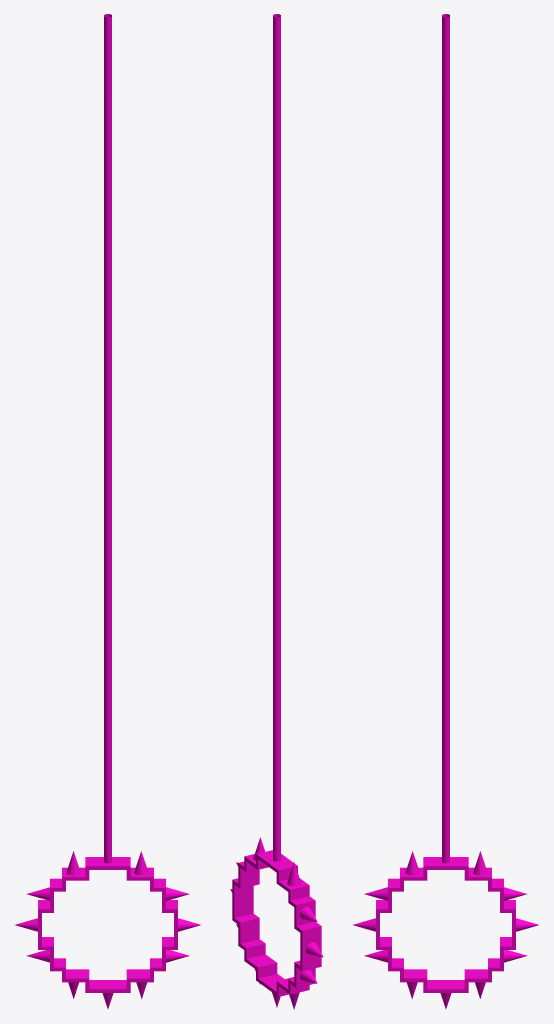
File: cutter5_pixel.fbx
3 renders of one model, left to right at view 1: azimuth 90°, elevation 25°; view 2: azimuth 210°, elevation 25°; view 3: azimuth 270°, elevation 25°, orthographic.
Visible parts, largest first — view 1: Cutter5_Pixel; view 2: Cutter5_Pixel; view 3: Cutter5_Pixel.
Part boxes in pixels (x1,y1,x2,y2): Cutter5_Pixel: (15, 14, 200, 1008); Cutter5_Pixel: (230, 14, 323, 1009); Cutter5_Pixel: (353, 14, 538, 1008).
Bounding box in the file's own units: 16.87 × 832 × 142.
